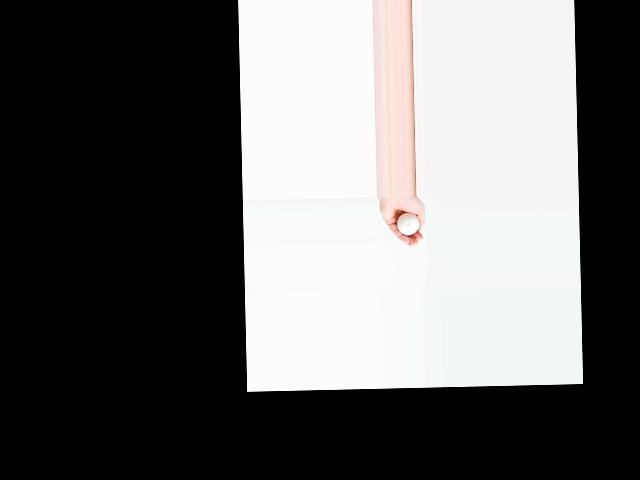egg: (396, 213, 418, 235)
